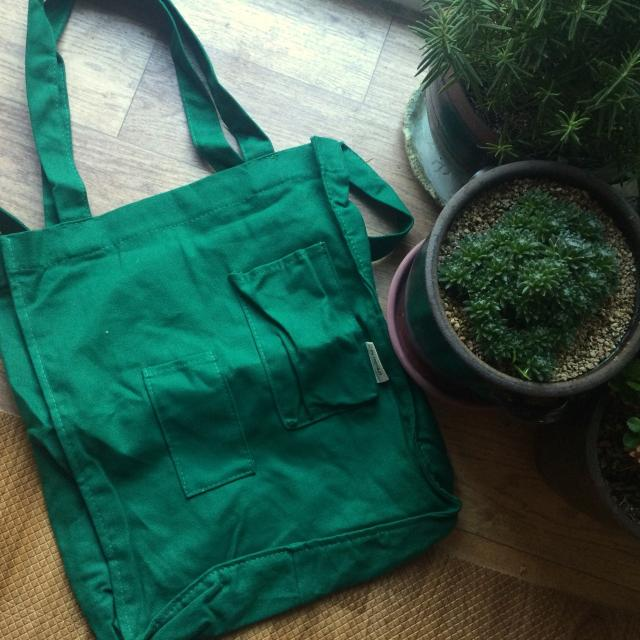ecobag: (13, 9, 482, 634)
